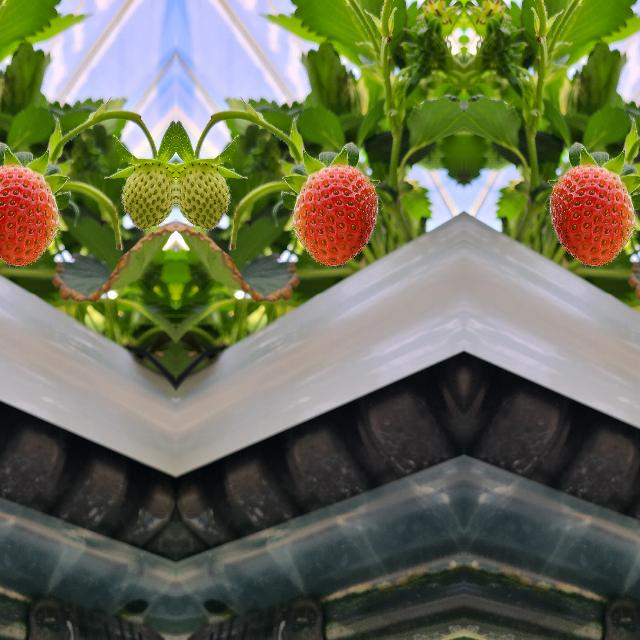Health_100: (292, 164, 376, 266), (550, 164, 634, 266), (0, 164, 58, 265)
Health_25: (176, 158, 234, 238), (116, 158, 174, 238)
